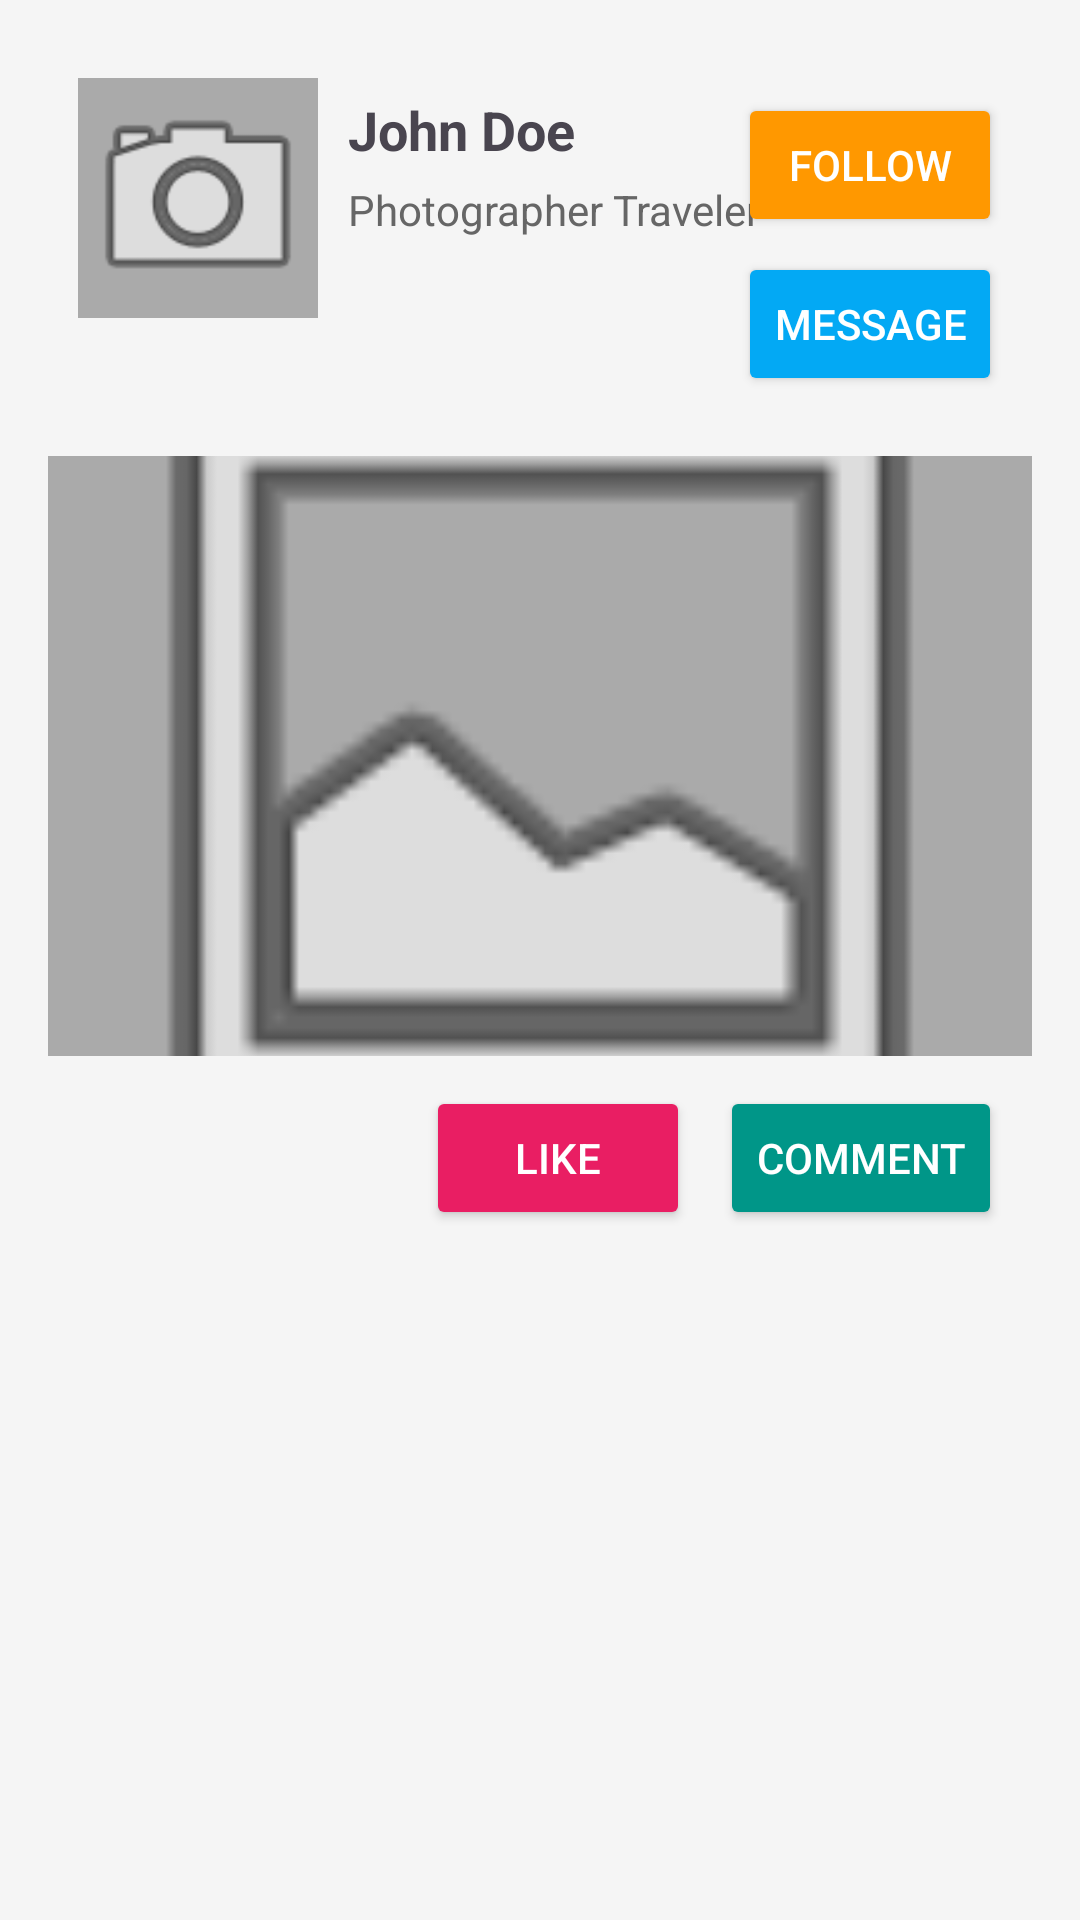

Point at icon controls on the screen. Image size 1080px x 1920px, points as point (x, y).
camera: point (198, 198)
